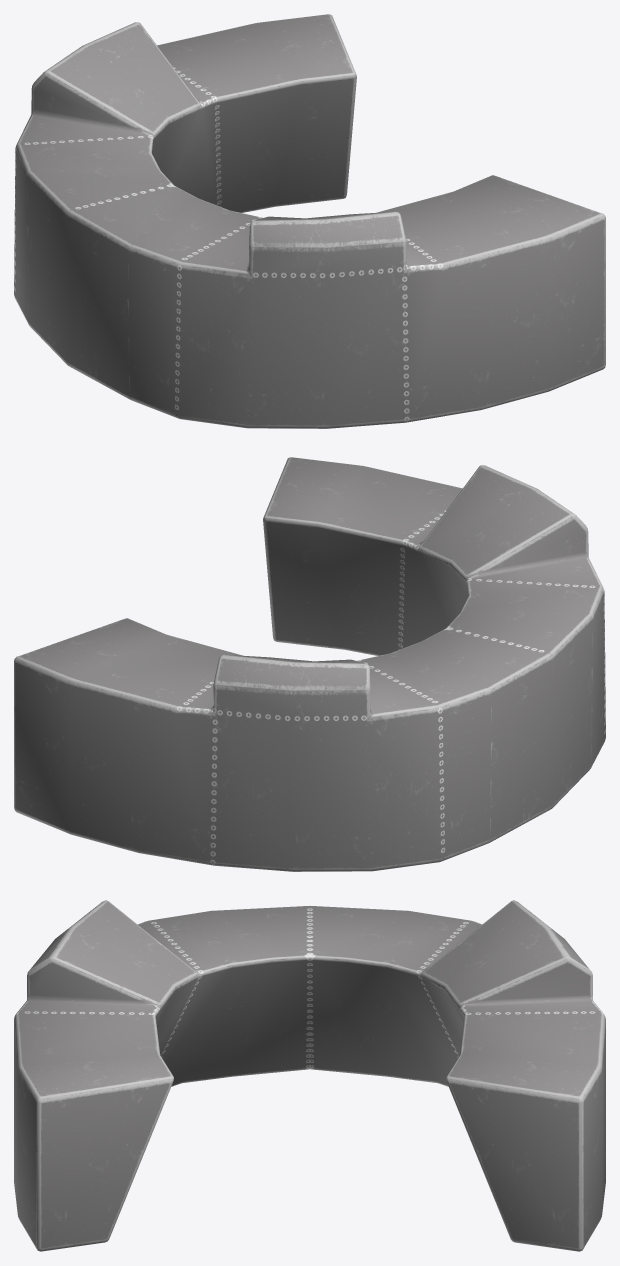
File: stol_new.fbx
3 renders of one model, top to bottom at view 1: azimuth 30°, elevation 25°; view 2: azimuth 150°, elevation 25°; view 3: azimuth 270°, elevation 25°, orthographic.
Visible parts, largest first — view 1: Circle; view 2: Circle; view 3: Circle.
Boxes of the visible parts, x1,y1,x2,y2 form: Circle: (14,14,605,428); Circle: (14,457,605,871); Circle: (14,900,605,1251).
Bounding box in the file's own units: 85.59 × 40.9 × 110.
1 material, 1 textured.
